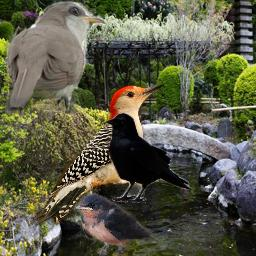Crow: (103, 112, 194, 203)
Cuckoo: (2, 1, 106, 114)
Swallow: (74, 193, 156, 256)
Woodpecker: (28, 83, 164, 228)
